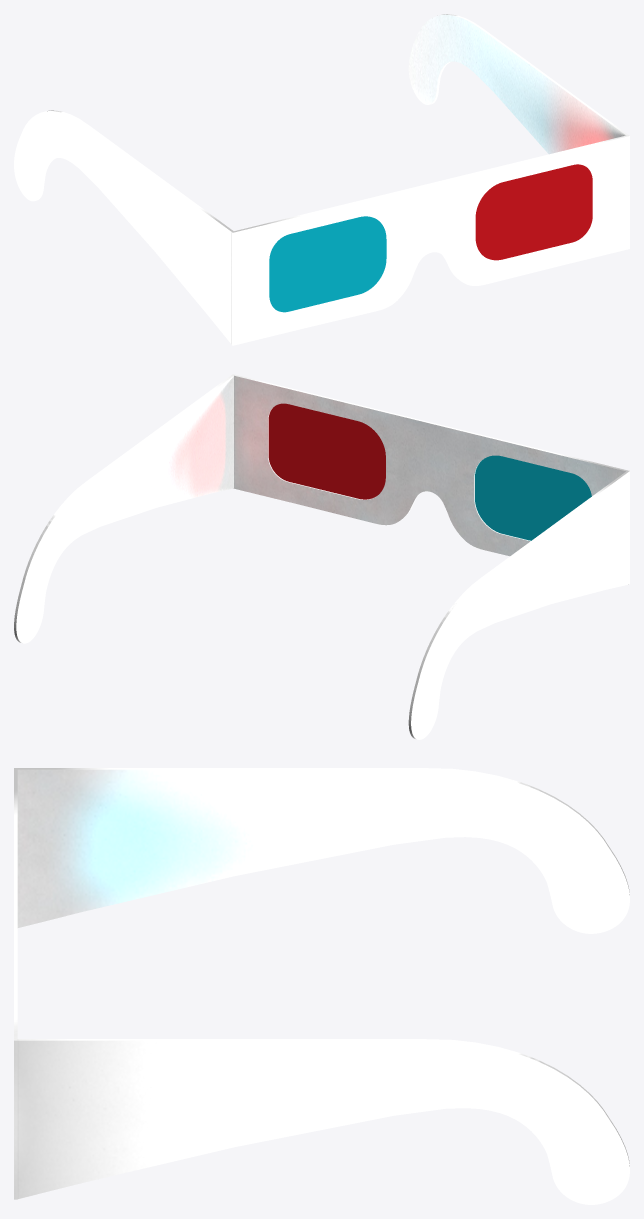
File: new_3d-anaglyph_v15.gltf
The picture shows the model from 3 angles, top to bottom: view 1: azimuth 30°, elevation 25°; view 2: azimuth 150°, elevation 25°; view 3: azimuth 270°, elevation 25°; orthographic projection. The views are drawn at different scales.
Parts seen in each view (by area): view 1: glasses.1, cyan, magenta; view 2: glasses.1, magenta, cyan; view 3: glasses.1.
Part boxes in pixels (x1,y1,x2,y2): glasses.1: (14,14,629,345); cyan: (269,216,386,312); magenta: (475,164,592,260); glasses.1: (14,374,629,739); magenta: (268,403,385,499); cyan: (475,455,591,540); glasses.1: (14,768,629,1204).
Size of the model in its own units: 5.05 by 1.42 by 4.83.
Materials: 3 (2 with a texture image).
